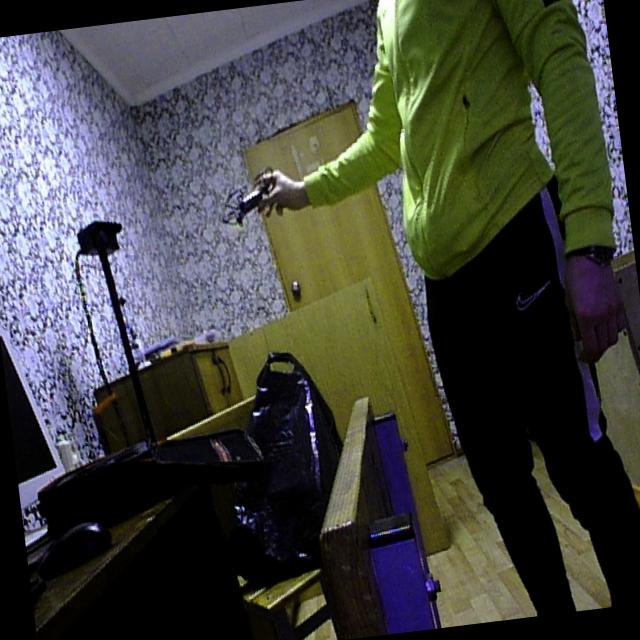drone: (215, 160, 292, 236)
